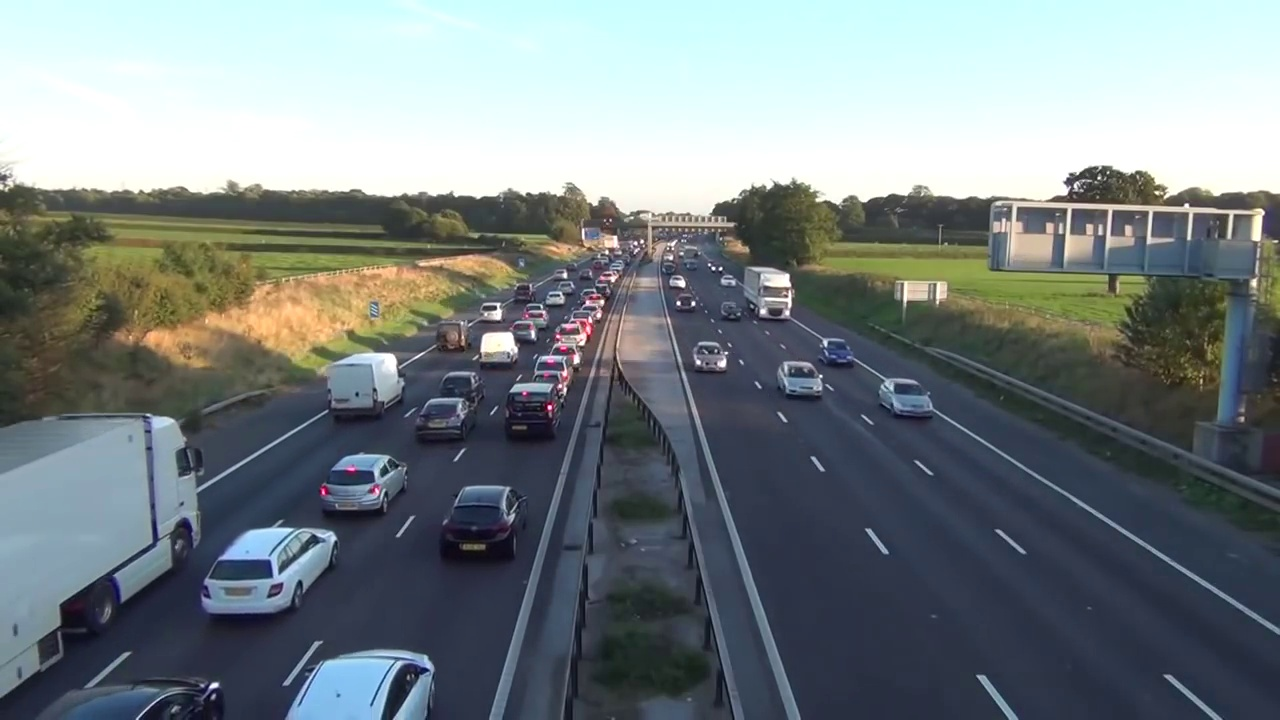car: (0, 414, 206, 700), (199, 524, 340, 616), (284, 646, 437, 720), (26, 666, 225, 719), (440, 483, 522, 558), (325, 352, 406, 424), (319, 452, 408, 514), (503, 378, 559, 442), (743, 265, 794, 319), (745, 265, 794, 320), (415, 396, 474, 441), (879, 376, 933, 417), (776, 359, 826, 399), (477, 331, 521, 369), (692, 338, 733, 375), (821, 338, 854, 367), (668, 287, 698, 312), (719, 295, 747, 320)
